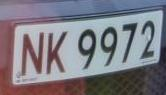2: (138, 14, 158, 64)
7: (118, 18, 141, 67)
9: (75, 20, 100, 76), (98, 20, 121, 72)
K: (44, 25, 69, 81)
N: (19, 27, 45, 84)
